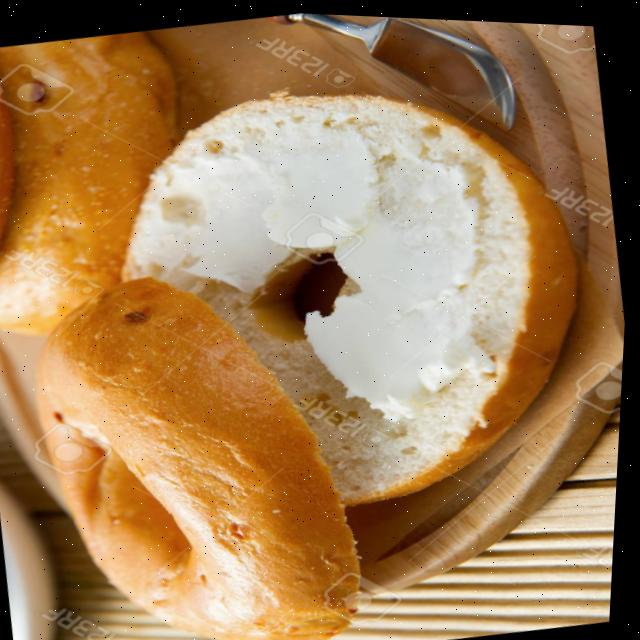Bagel: (129, 91, 580, 500), (39, 276, 366, 640), (0, 29, 178, 334)
